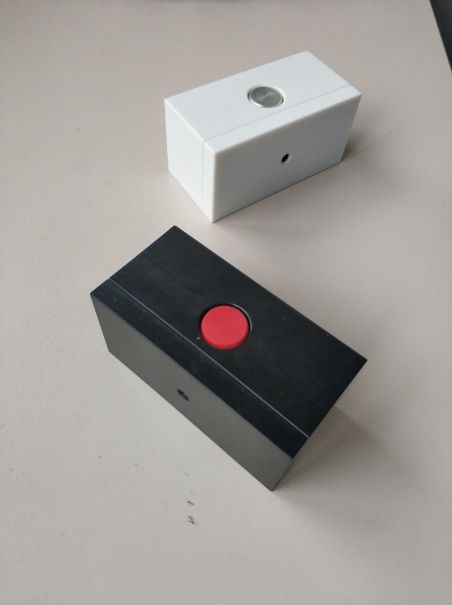black+black+red: (88, 224, 370, 493)
white+white+silver: (161, 49, 364, 227)
